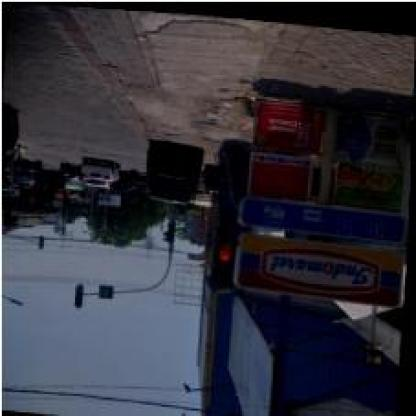green: (2, 200, 13, 224), (169, 218, 176, 240), (77, 285, 84, 305)
